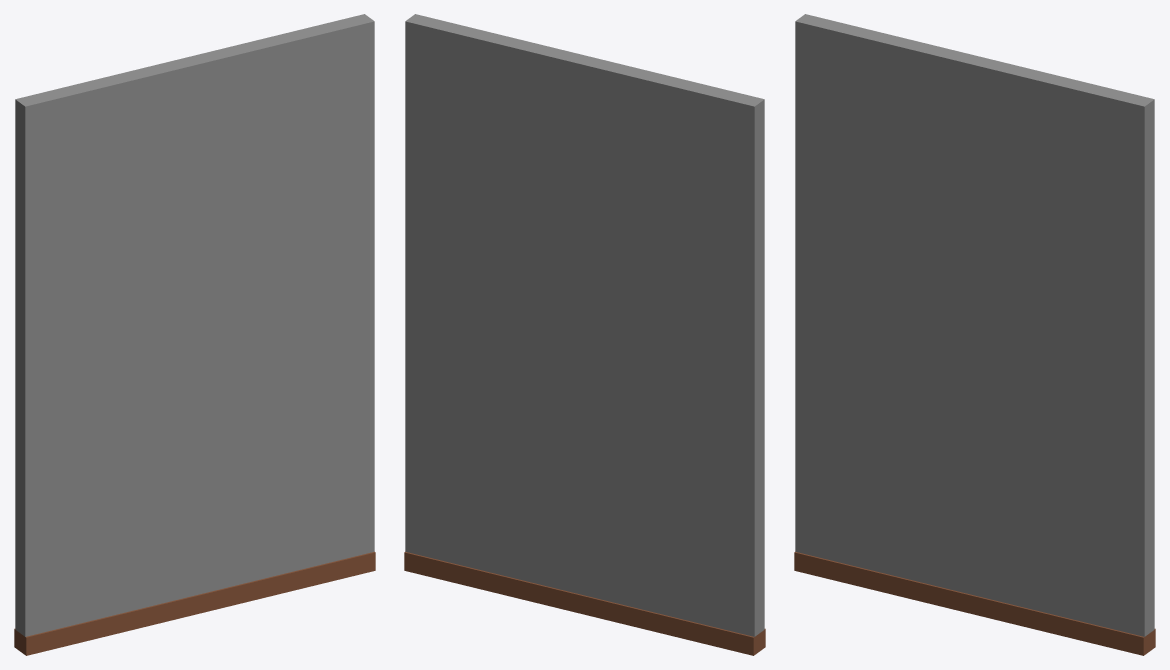
File: Mur03_t2.FBX
The picture shows the model from 3 angles, left to right: view 1: azimuth 30°, elevation 25°; view 2: azimuth 150°, elevation 25°; view 3: azimuth 330°, elevation 25°; orthographic projection.
Visible parts, largest first — view 1: mur 200; view 2: mur 200; view 3: mur 200.
Boxes of the visible parts, left/top/right/bottom form: mur 200: left=14, top=14, right=375, bottom=655; mur 200: left=404, top=14, right=765, bottom=655; mur 200: left=794, top=14, right=1155, bottom=655.
Size of the model in its own units: 200 by 300 by 12.
